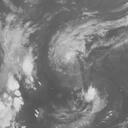cyclone: (48, 30, 91, 73)
